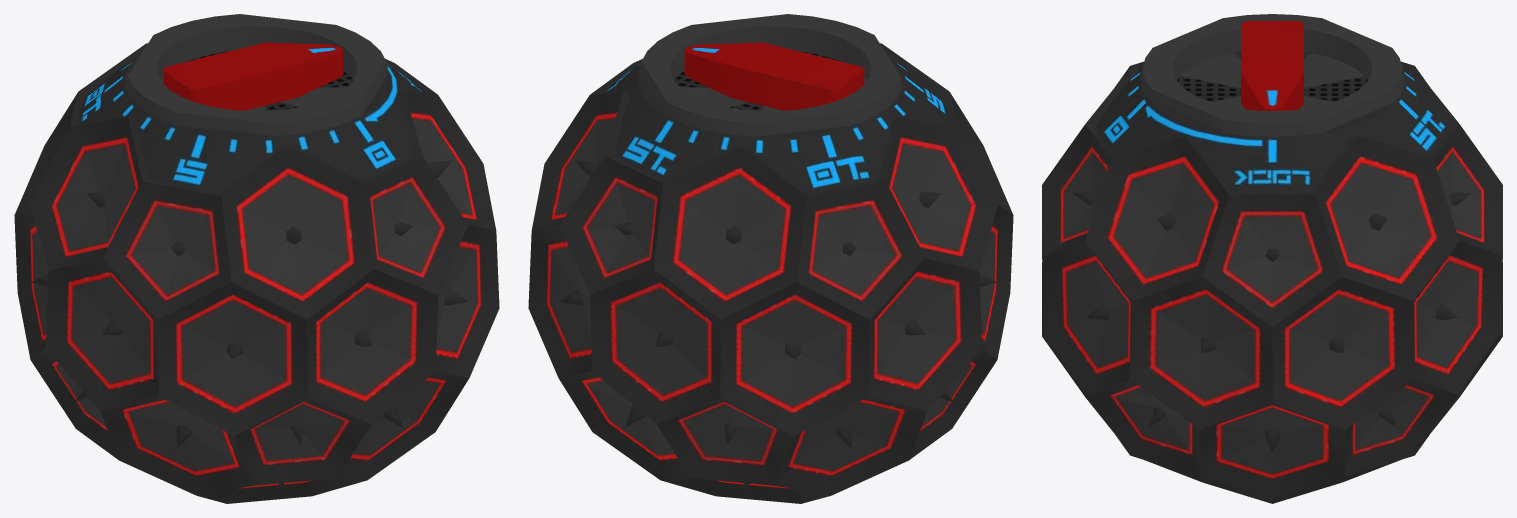
Rendered from grenade.glb.
3 renders of one model, left to right at view 1: azimuth 30°, elevation 25°; view 2: azimuth 150°, elevation 25°; view 3: azimuth 270°, elevation 25°, orthographic.
Visible parts, largest first — view 1: grenade; view 2: grenade; view 3: grenade.
Part boxes in pixels (x1,y1,x2,y2): grenade: [14, 14, 499, 503]; grenade: [528, 14, 1013, 503]; grenade: [1042, 14, 1502, 503].
Bounding box in the file's own units: 0.09 × 0.0847 × 0.0856.
Materials: 1 (1 with a texture image).
